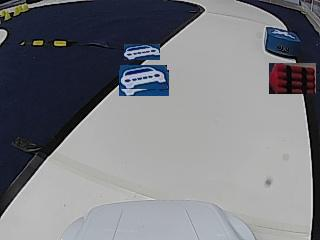prop: (264, 27, 299, 58)
